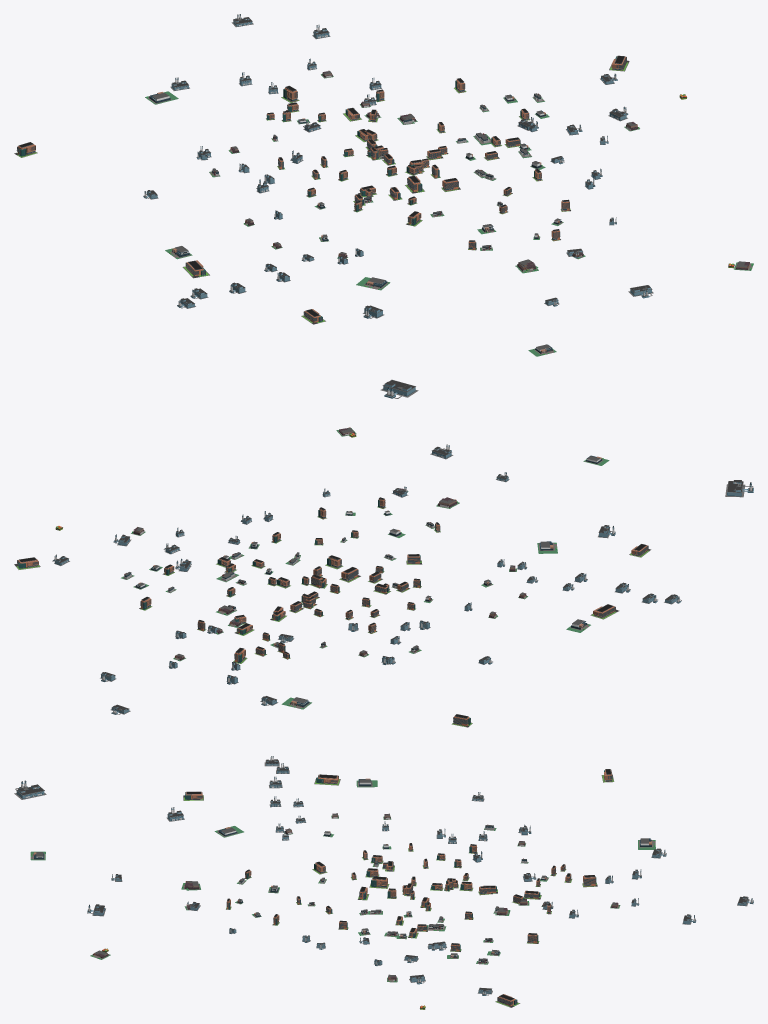
File: mumbai2.glb
3 renders of one model, top to bottom at view 1: azimuth 30°, elevation 25°; view 2: azimuth 150°, elevation 25°; view 3: azimuth 270°, elevation 25°, orthographic. The views are drawn at different scales.
Parts seen in each view (by area): view 1: mumbai; view 2: mumbai; view 3: mumbai.
Boxes of the visible parts, x1,y1,x2,y2 form: mumbai: [14, 14, 753, 398]; mumbai: [14, 427, 753, 727]; mumbai: [14, 756, 753, 1009].
Bounding box in the file's own units: 1743 × 29.76 × 2185.
7 materials, 7 textured.
